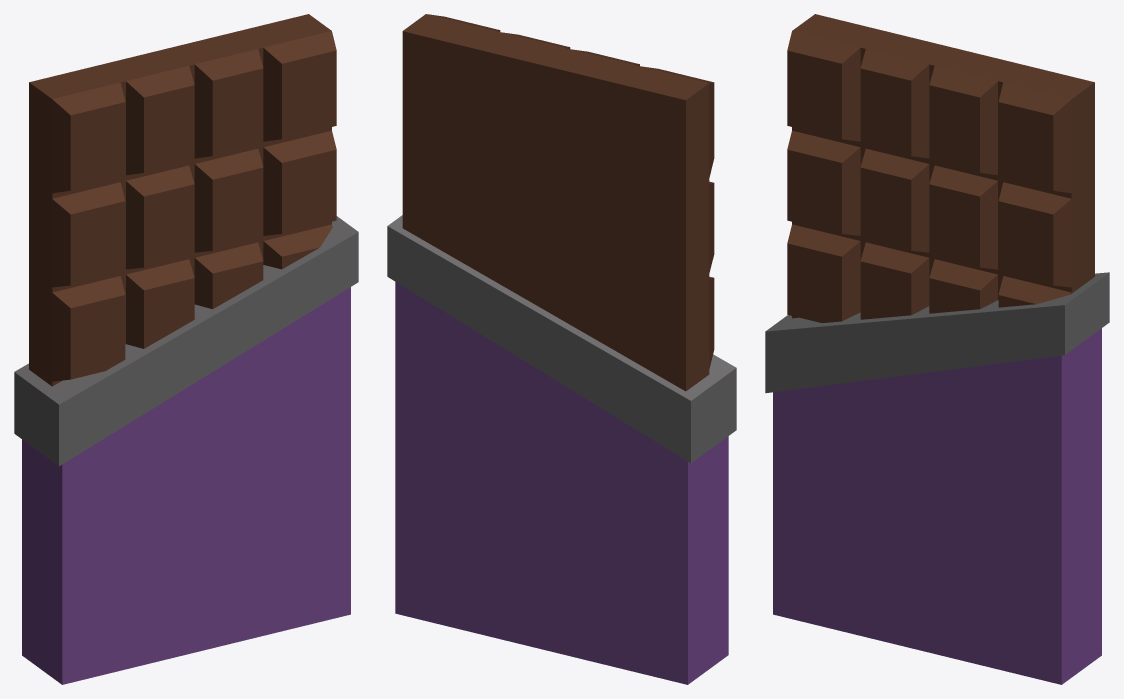
Rendered from chocolate.fbx.
The picture shows the model from 3 angles, left to right: view 1: azimuth 30°, elevation 25°; view 2: azimuth 150°, elevation 25°; view 3: azimuth 330°, elevation 25°; orthographic projection.
Parts seen in each view (by area): view 1: chocolate.001; view 2: chocolate.001; view 3: chocolate.001.
Boxes of the visible parts, box(x1,y1,x2,y2) form: chocolate.001: box(14, 14, 358, 684); chocolate.001: box(387, 14, 736, 684); chocolate.001: box(765, 14, 1109, 684).
Bounding box in the file's own units: 219 × 401 × 56.75.
